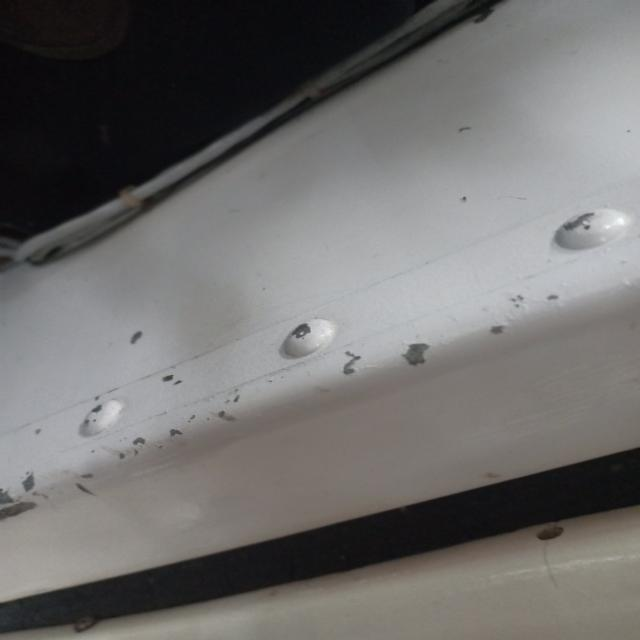Rupture: (59, 366, 273, 512), (338, 282, 562, 385), (0, 459, 50, 542), (549, 208, 629, 246), (278, 322, 317, 344)
